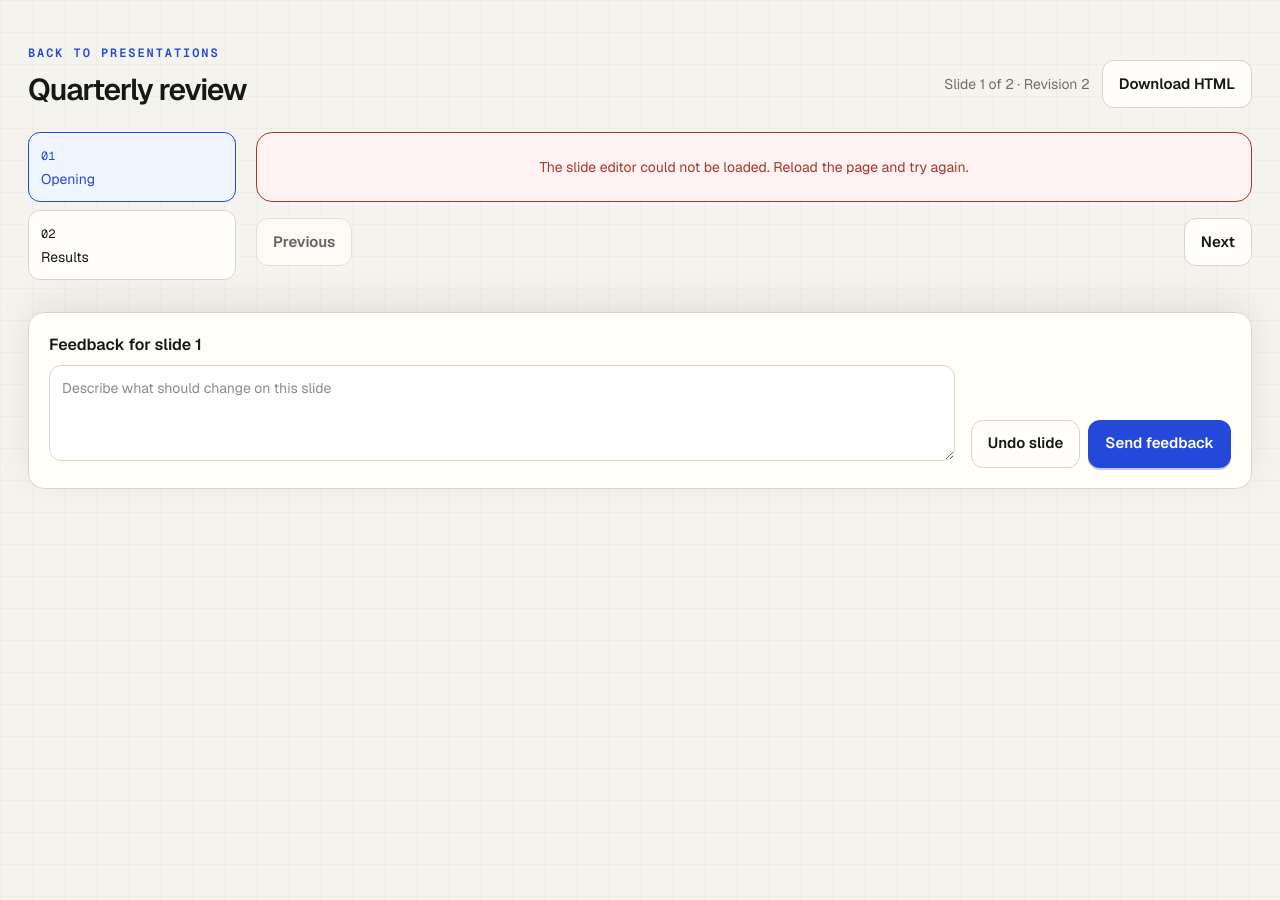
Scenario: SlideEditor › navigates with buttons and thumbnails while preserving per-slide drafts
In the text box labelled "Feedback for slide 1": (502, 413) [49,365,955,461], type "Make the opening bolder"
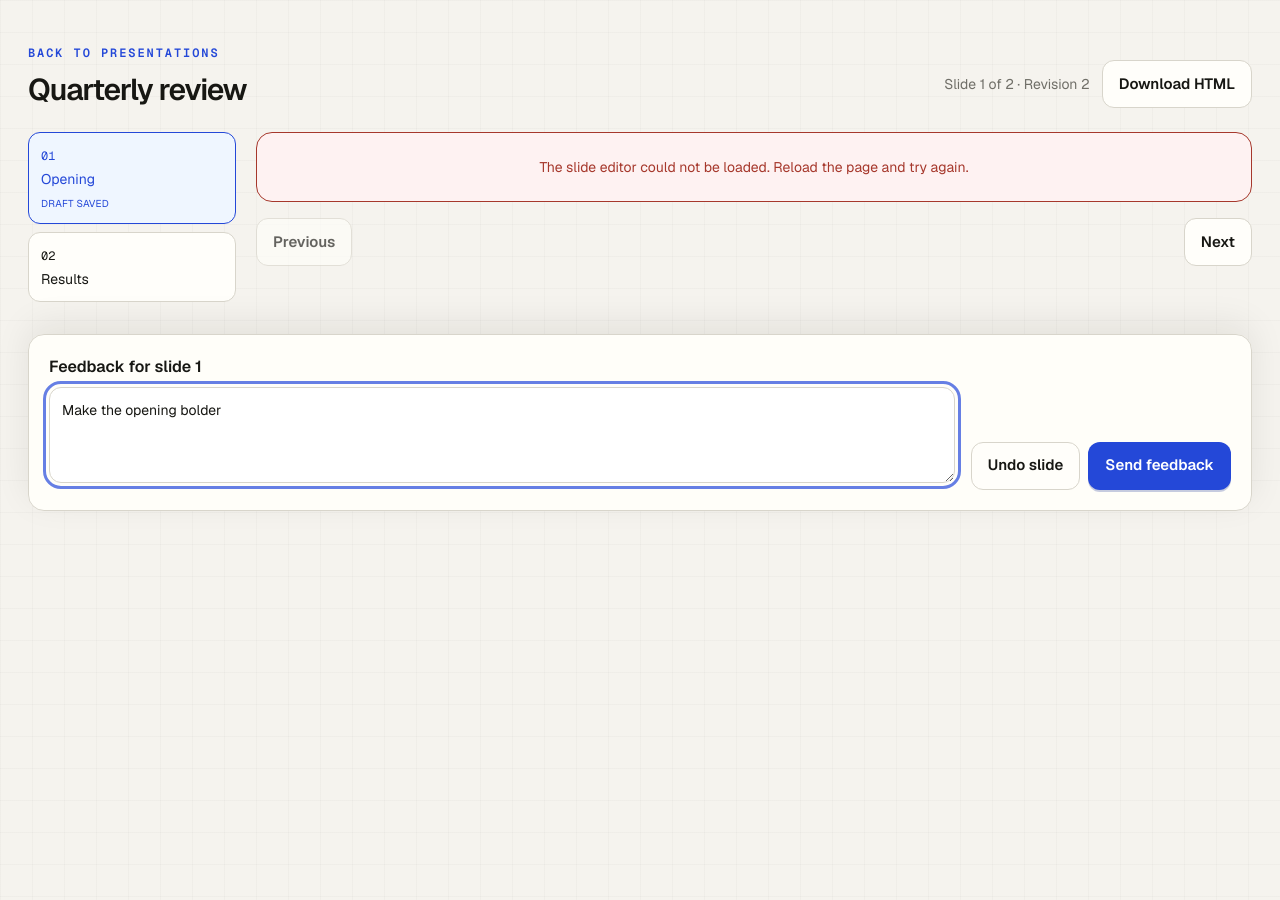
Click the button "Next": (1218, 242) [1184,218,1252,266]
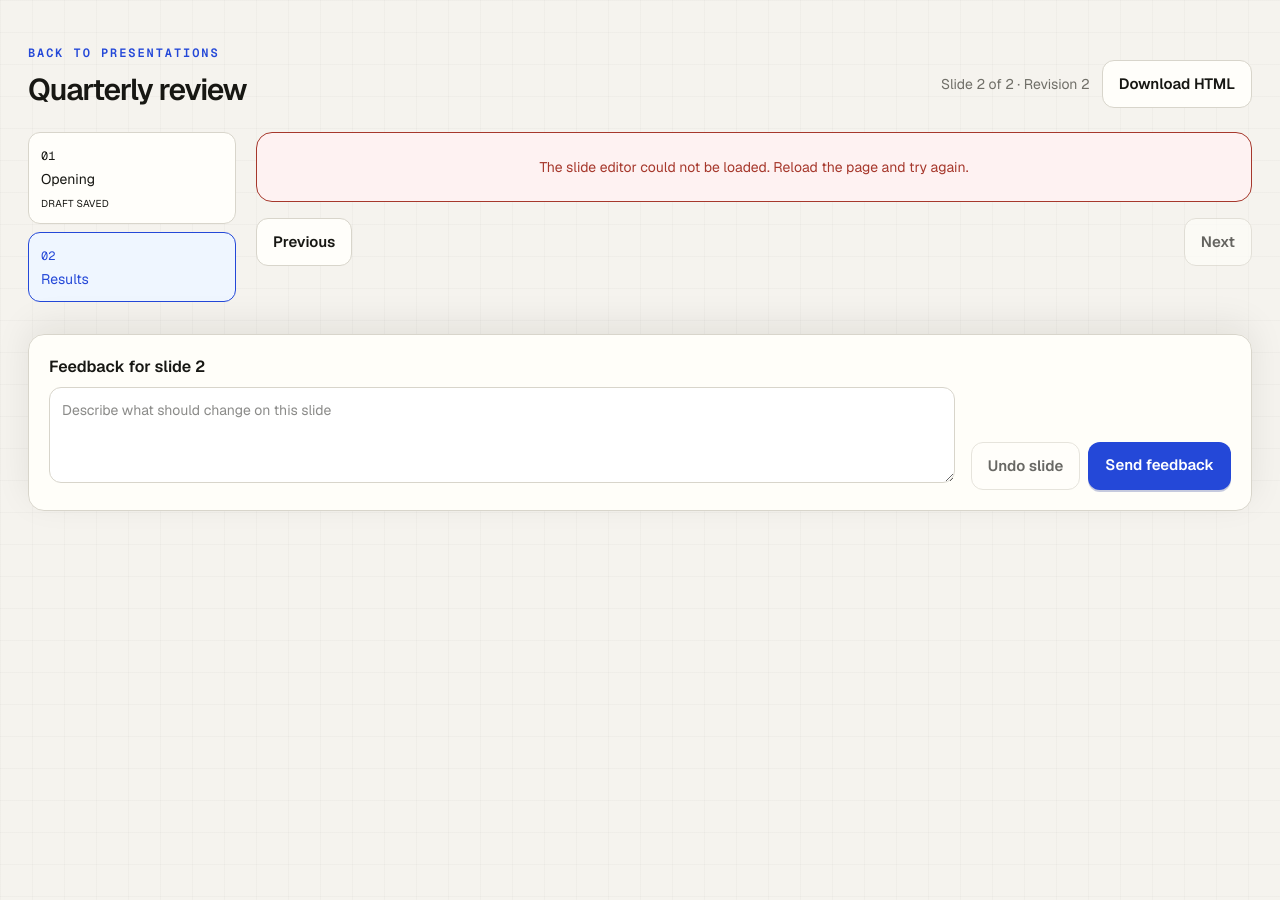
Expected: the text box labelled "Feedback for slide 2" is empty
In the text box labelled "Feedback for slide 2": (502, 435) [49,387,955,483], type "Add a chart"
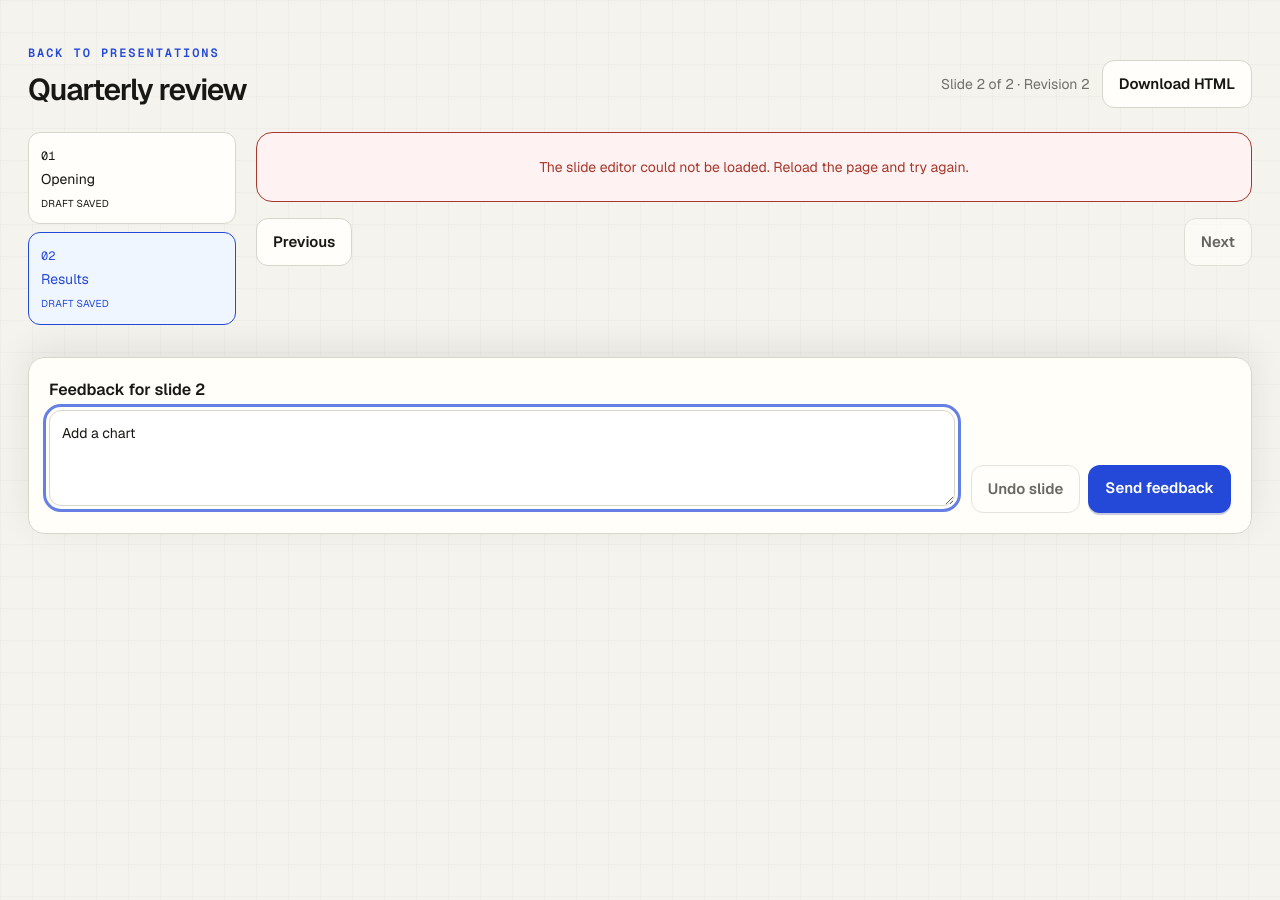
Click the button with aria-label "Select slide 1": (132, 178) [28,132,236,224]
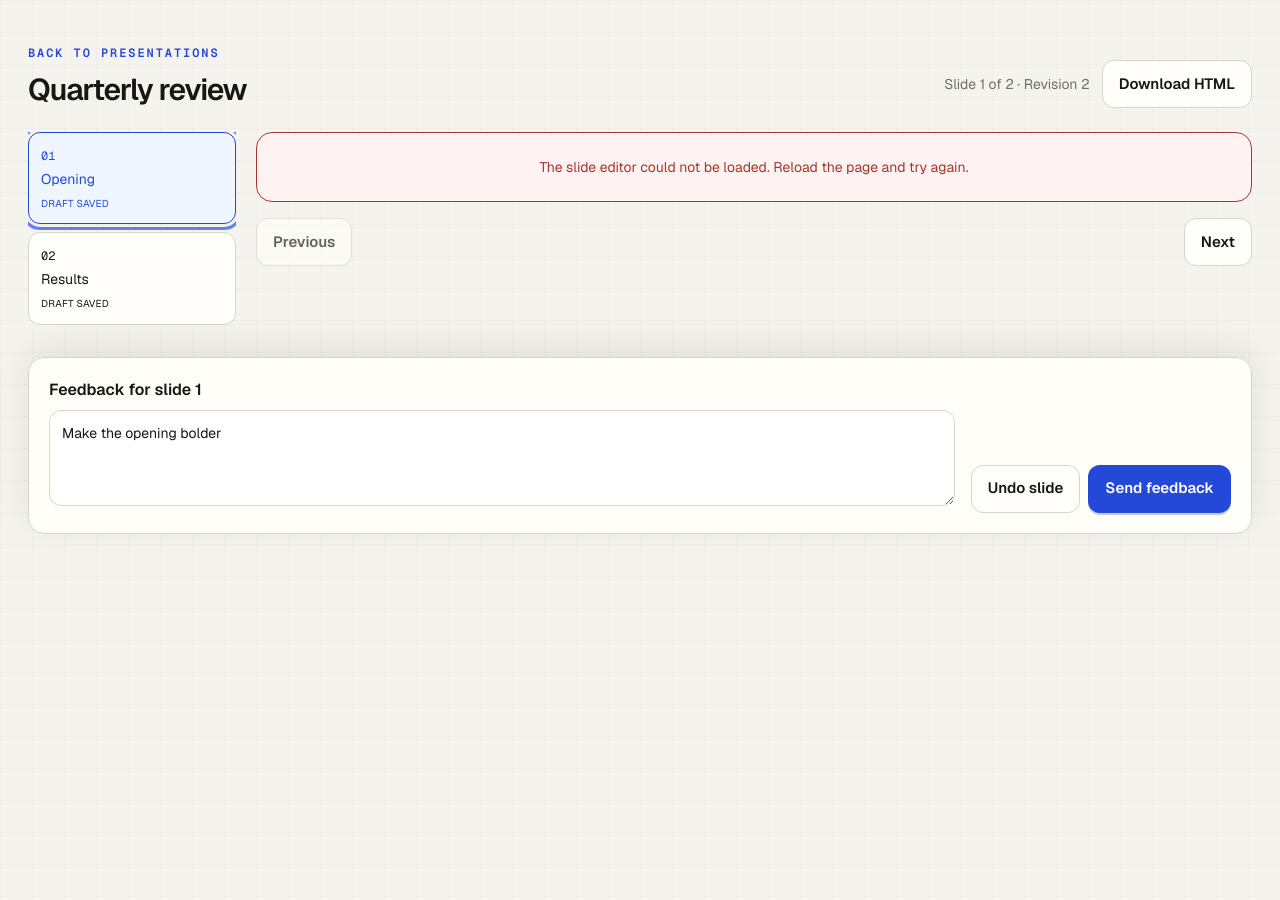
Expected: the text "Slide 1 of 2 · Revision 2" is shown, [944,74,1090,94]
